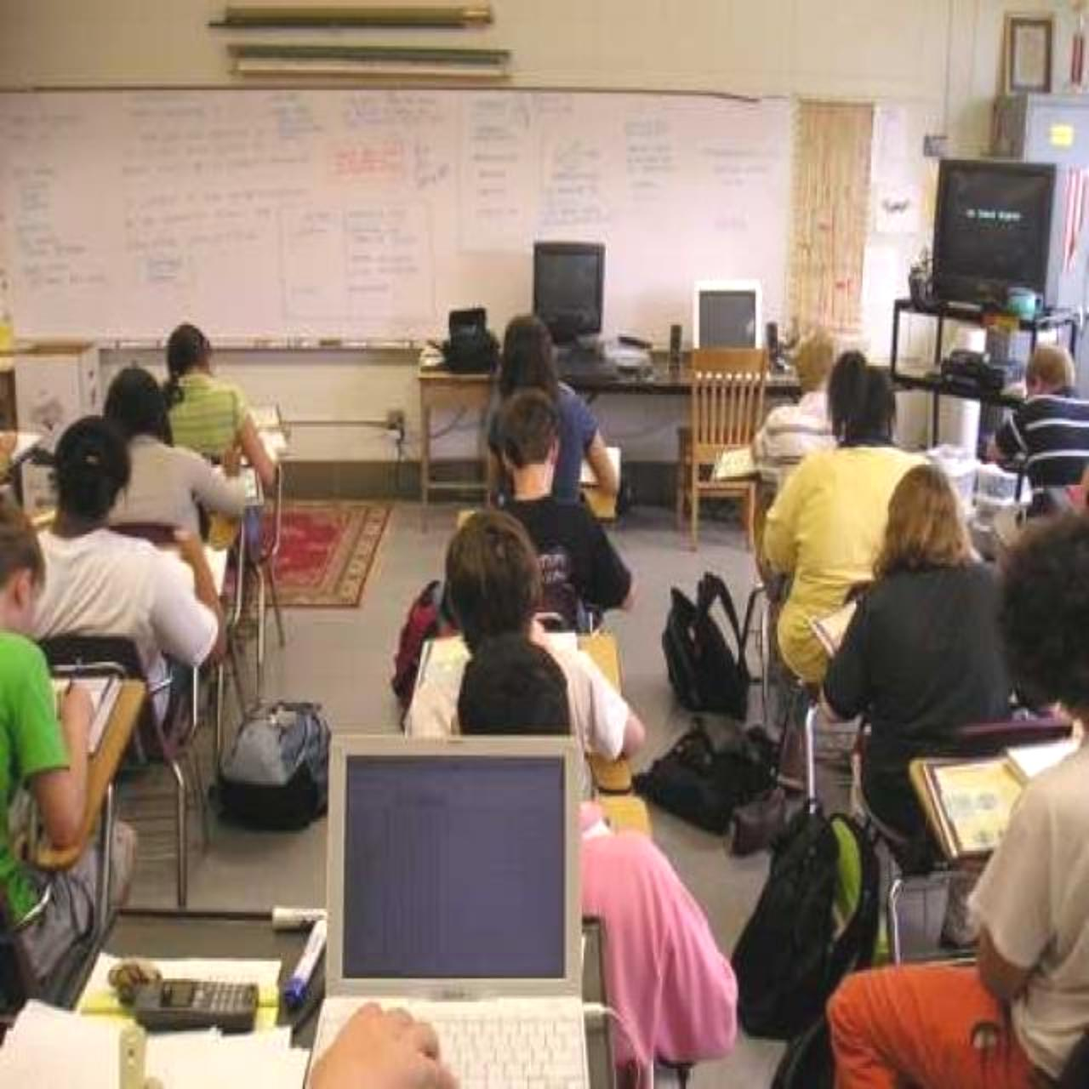laptop: (323, 733, 587, 1089)
